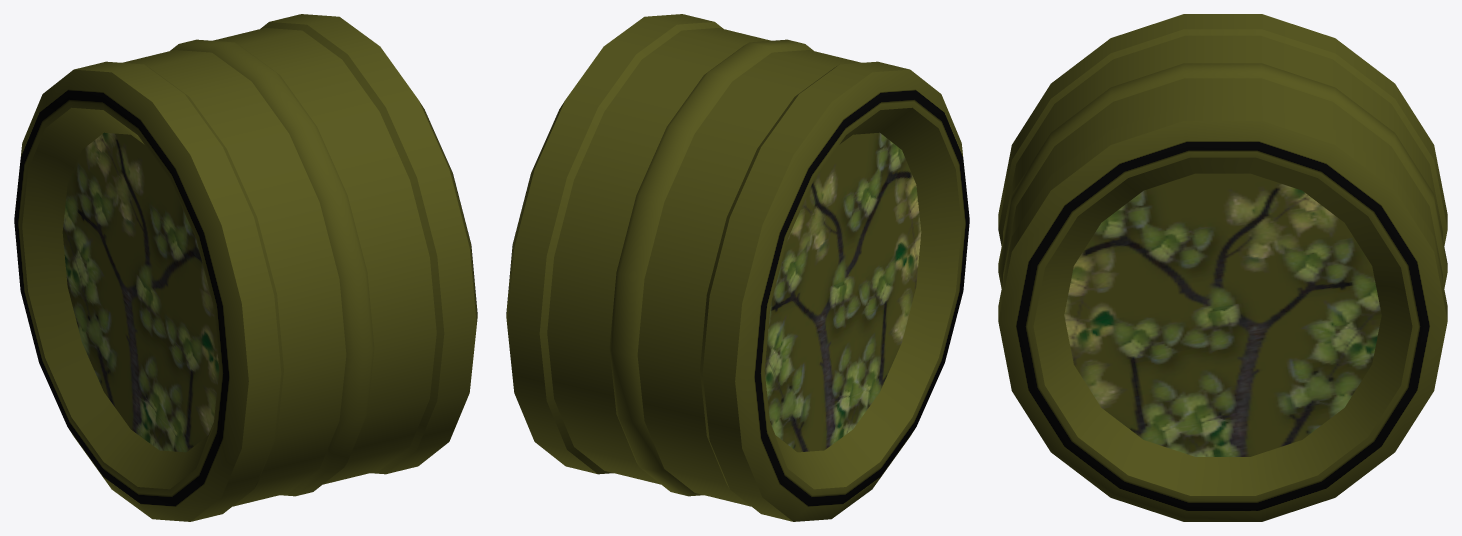
Rendered from pipe_b_mm.FBX.
3 renders of one model, left to right at view 1: azimuth 30°, elevation 25°; view 2: azimuth 150°, elevation 25°; view 3: azimuth 270°, elevation 25°, orthographic. The views are drawn at different scales.
Parts seen in each view (by area): view 1: pipe_b_mm; view 2: pipe_b_mm; view 3: pipe_b_mm.
Boxes of the visible parts, x1,y1,x2,y2 form: pipe_b_mm: (14,14,477,521); pipe_b_mm: (506,14,969,521); pipe_b_mm: (998,14,1447,521).
Bounding box in the file's own units: 0.9284 × 1.5 × 1.48.
